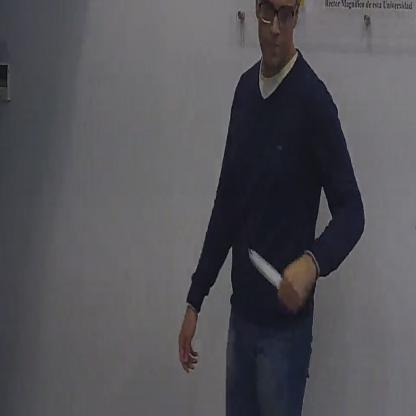knife: (243, 239, 300, 312)
